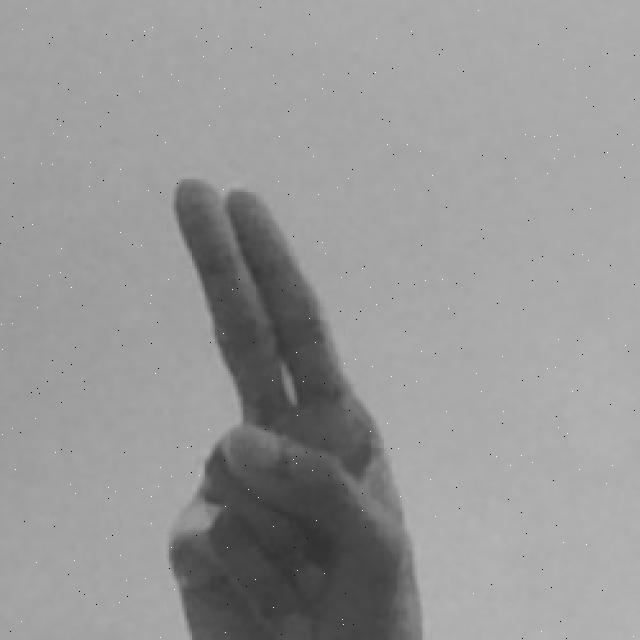U: (161, 171, 432, 640)
